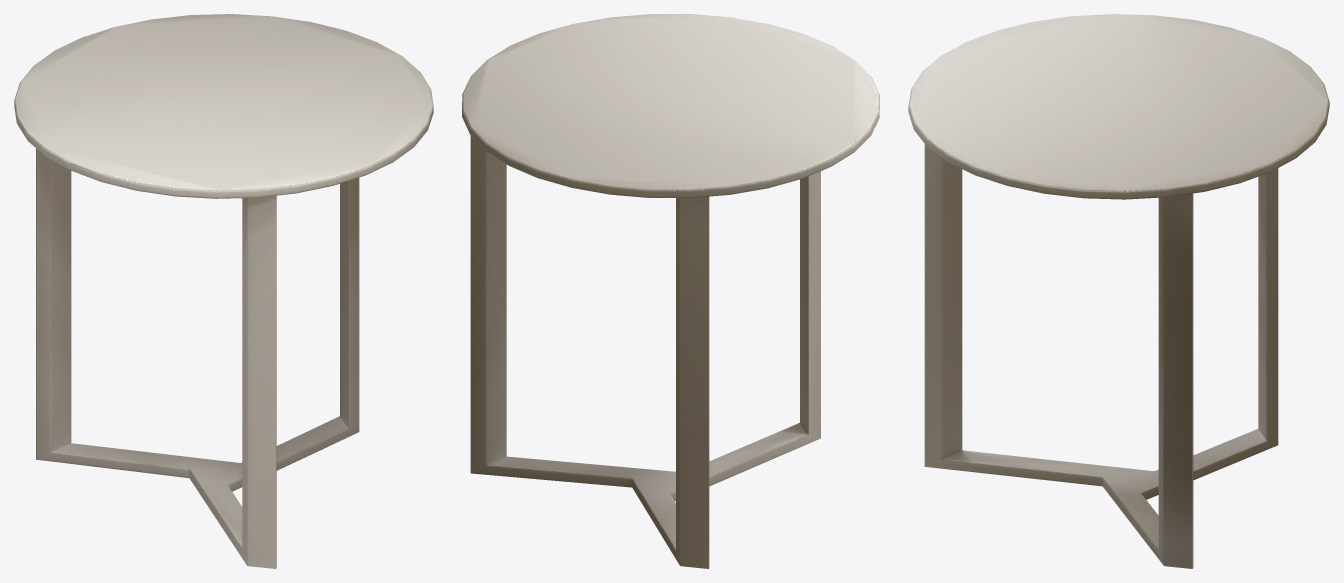
The model's file is STANDARD_TABLE.glb.
3 renders of one model, left to right at view 1: azimuth 30°, elevation 25°; view 2: azimuth 150°, elevation 25°; view 3: azimuth 270°, elevation 25°, orthographic.
Parts seen in each view (by area): view 1: TABLE 3; view 2: TABLE 3; view 3: TABLE 3.
Part boxes in pixels (box(x1,y1,x2,y2)): TABLE 3: box(14, 14, 433, 568); TABLE 3: box(462, 14, 879, 568); TABLE 3: box(908, 14, 1329, 568).
Bounding box in the file's own units: 0.6391 × 0.6475 × 0.6391.
Materials: 1 (1 with a texture image).
